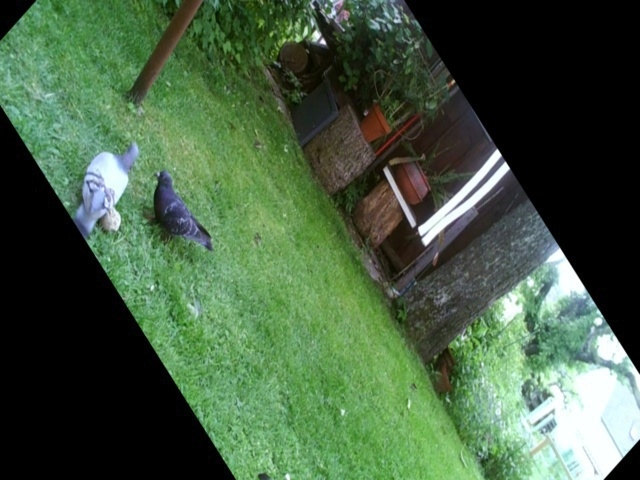Pigeon: (71, 138, 147, 233), (148, 170, 219, 256)
